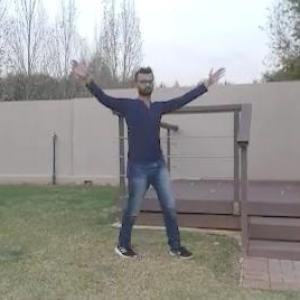takeoff: (69, 60, 228, 266)
